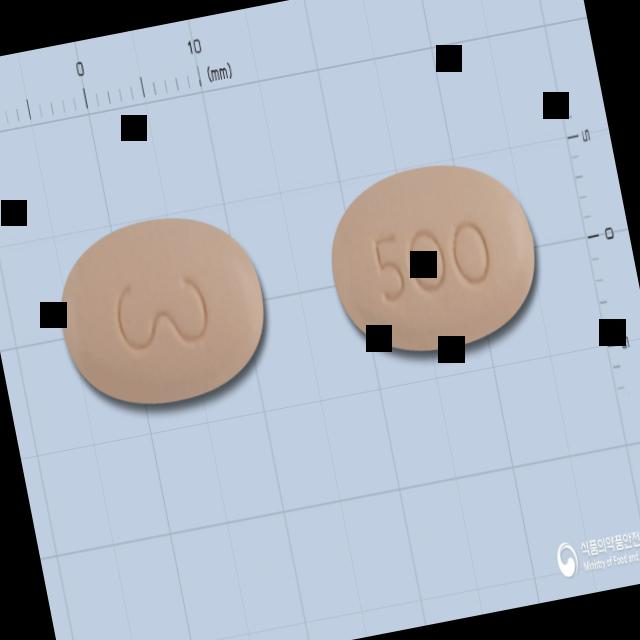Clarithromycin Tab- Dongkwang: (316, 144, 552, 370), (46, 197, 282, 419)
